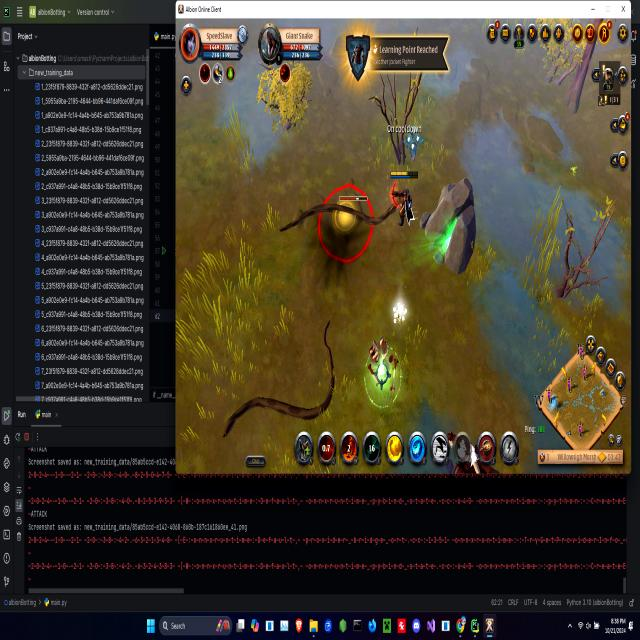hide: (402, 121, 424, 163)
ore: (218, 313, 342, 454), (272, 180, 402, 276)
red: (390, 168, 422, 232)
stone: (390, 300, 410, 327)
